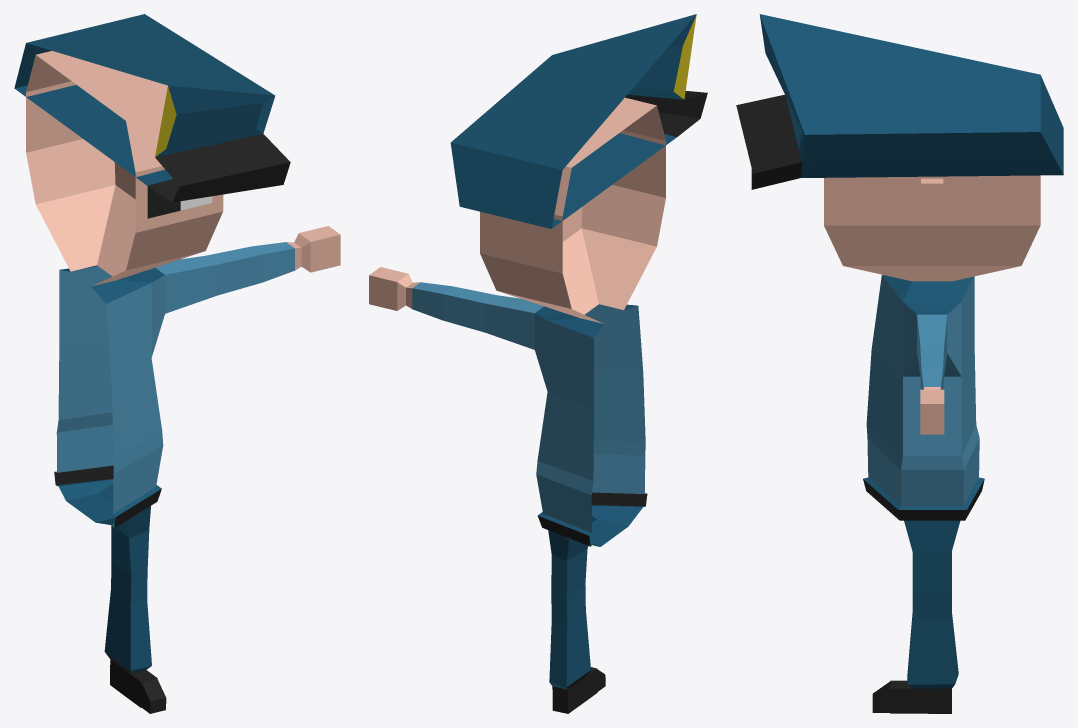
The model's file is police.glb.
3 renders of one model, left to right at view 1: azimuth 30°, elevation 25°; view 2: azimuth 150°, elevation 25°; view 3: azimuth 270°, elevation 25°, orthographic. The views are drawn at different scales.
Parts seen in each view (by area): view 1: Policeman; view 2: Policeman; view 3: Policeman.
Boxes of the visible parts, x1,y1,x2,y2 form: Policeman: [14, 14, 340, 713]; Policeman: [369, 14, 707, 713]; Policeman: [736, 14, 1063, 713].
Bounding box in the file's own units: 1.3 × 3.34 × 1.47.
1 material, 1 textured.
